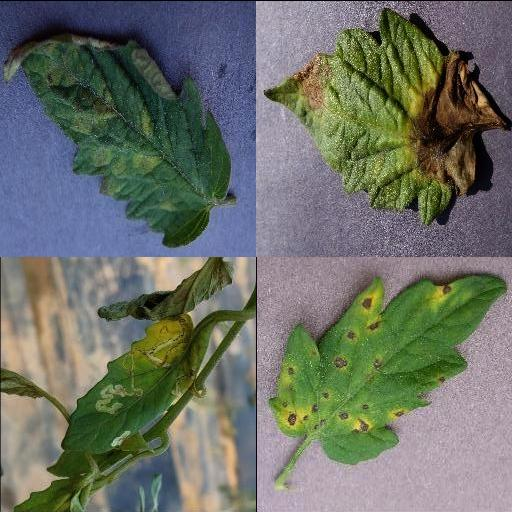Late Blight: (263, 5, 511, 225)
Leaf Miner: (61, 312, 215, 454)
Leaf Mold: (3, 29, 231, 245)
Septoria: (270, 275, 508, 464)
